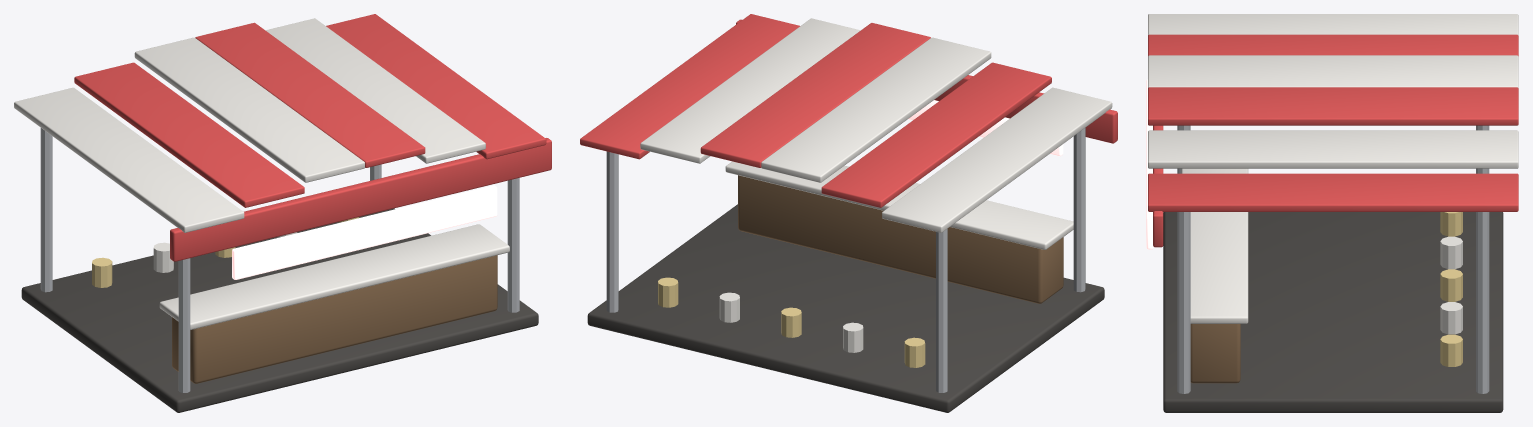
File: tent_medic.glb
3 renders of one model, left to right at view 1: azimuth 30°, elevation 25°; view 2: azimuth 150°, elevation 25°; view 3: azimuth 270°, elevation 25°, orthographic. The views are drawn at different scales.
Visible parts, largest first — view 1: tent_medic; view 2: tent_medic; view 3: tent_medic.
Part boxes in pixels (x1,y1,x2,y2): tent_medic: [14, 14, 551, 412]; tent_medic: [580, 14, 1117, 412]; tent_medic: [1146, 14, 1518, 412].
Size of the model in its own units: 92 by 49.6 by 72.3.
